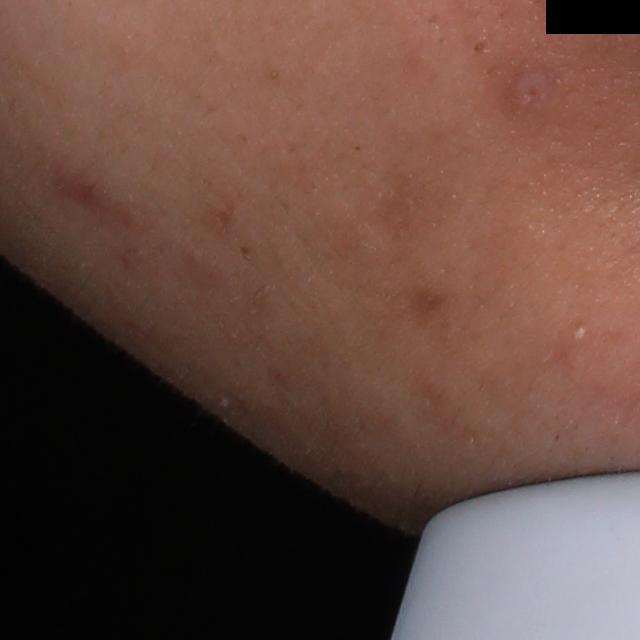comedo: (468, 34, 491, 57)
papule: (497, 54, 559, 118)
